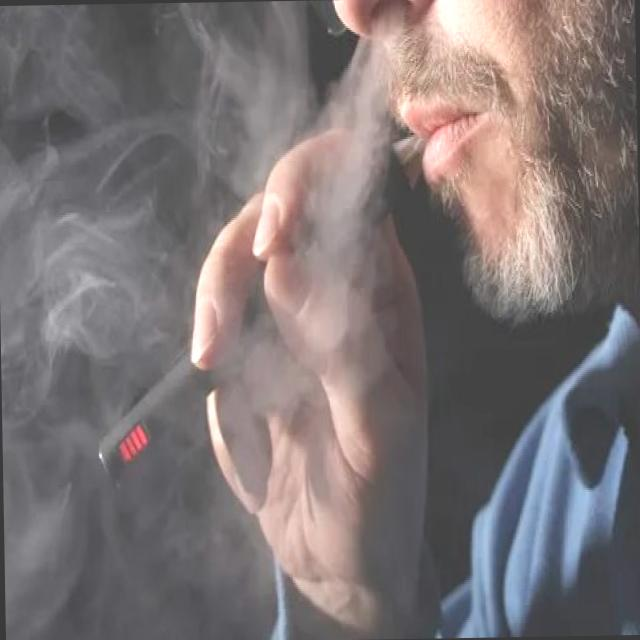cigarette: (90, 122, 437, 492)
